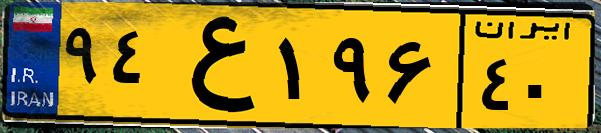0: (525, 38, 570, 115)
1: (270, 28, 330, 110)
4: (475, 38, 525, 113), (110, 28, 158, 98)
6: (385, 28, 445, 110)
9: (330, 28, 385, 110), (57, 26, 110, 100)
ع: (158, 12, 270, 120)
